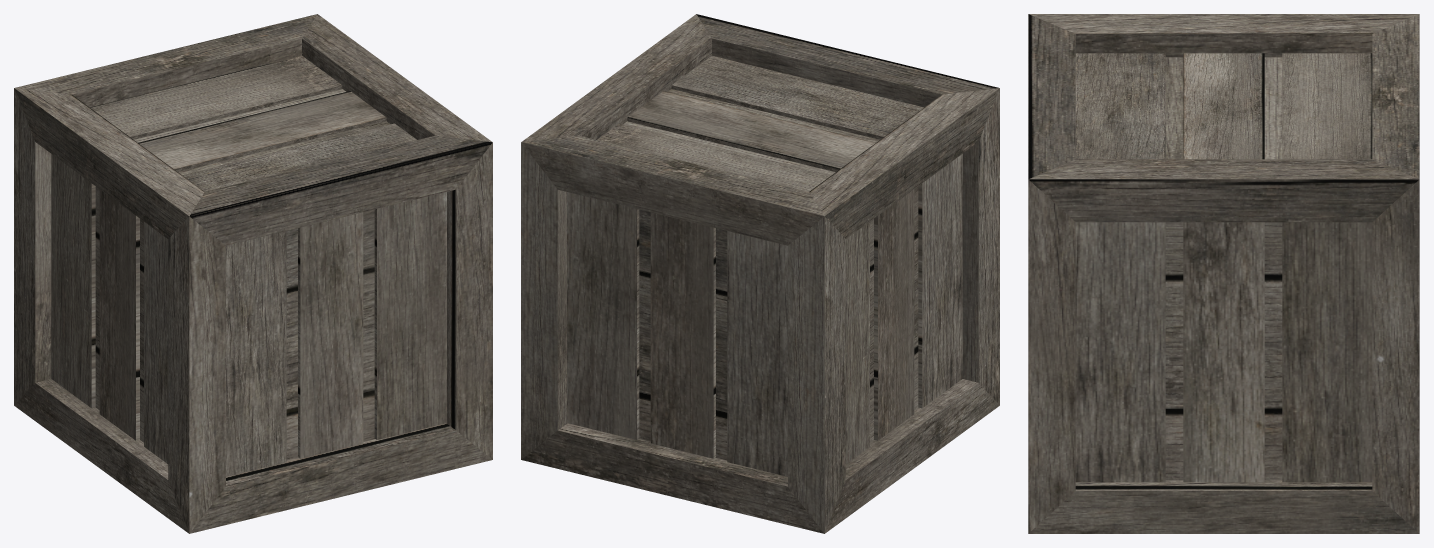
The model's file is Crate.glb.
The picture shows the model from 3 angles, left to right: view 1: azimuth 30°, elevation 25°; view 2: azimuth 150°, elevation 25°; view 3: azimuth 270°, elevation 25°; orthographic projection. The views are drawn at different scales.
Parts seen in each view (by area): view 1: Cube, Cube.001, Cube.002, Cube.003; view 2: Cube, Cube.001, Cube.002, Cube.003; view 3: Cube, Cube.002, Cube.003.
Part boxes in pixels (x1=…): Cube: x1=14, y1=14, x2=492, y2=533; Cube.001: x1=226, y1=192, x2=446, y2=476; Cube.002: x1=51, y1=154, x2=168, y2=463; Cube.003: x1=90, y1=56, x2=416, y2=191; Cube: x1=521, y1=14, x2=999, y2=533; Cube.001: x1=567, y1=192, x2=787, y2=476; Cube.002: x1=845, y1=154, x2=962, y2=463; Cube.003: x1=597, y1=56, x2=923, y2=191; Cube: x1=1028, y1=14, x2=1419, y2=533; Cube.002: x1=1075, y1=222, x2=1372, y2=482; Cube.003: x1=1075, y1=53, x2=1372, y2=159.
Size of the model in its own units: 2 by 2 by 2.
Materials: 2 (2 with a texture image).
